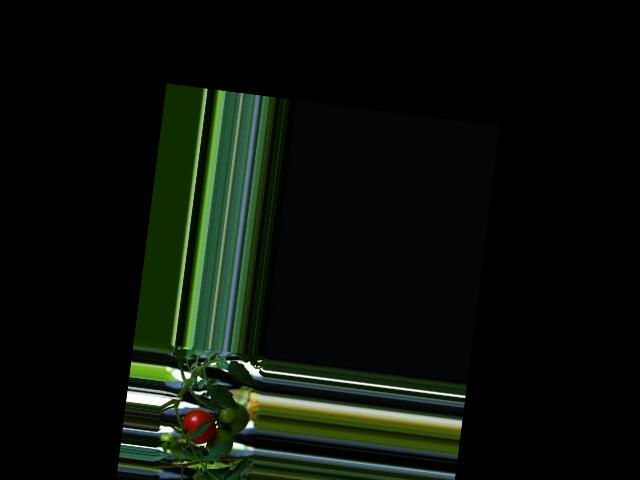tomato: (180, 407, 217, 445)
